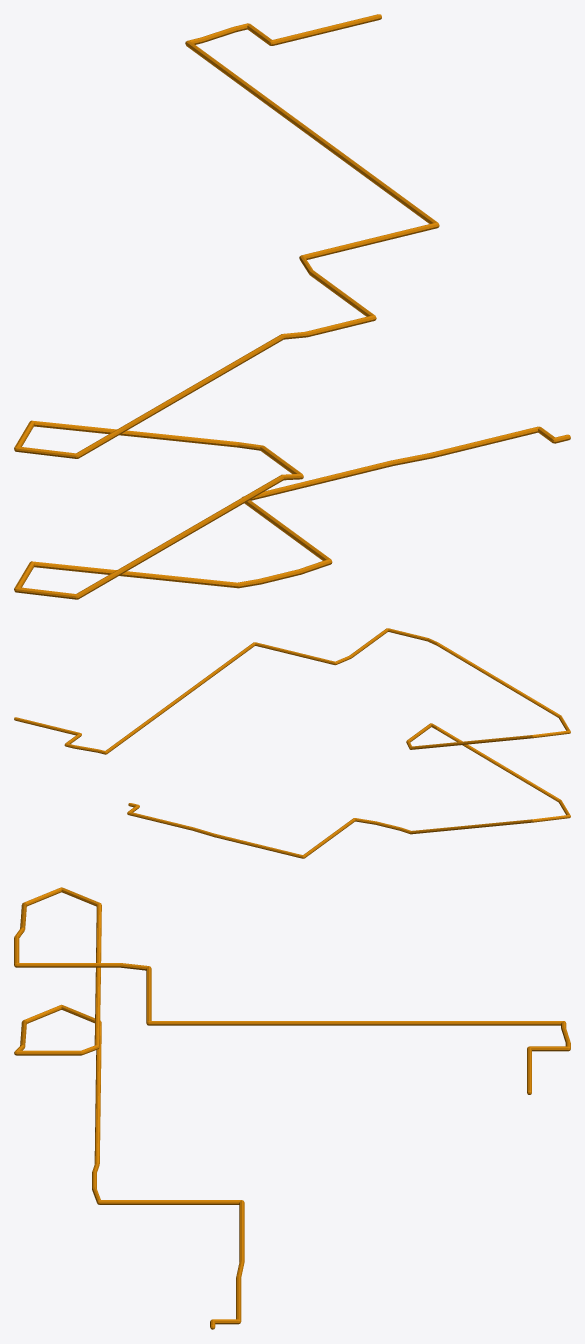
The picture shows the model from 3 angles, top to bottom: view 1: azimuth 30°, elevation 25°; view 2: azimuth 150°, elevation 25°; view 3: azimuth 270°, elevation 25°; orthographic projection. The views are drawn at different scales.
Bounding box in the file's own units: 2409 × 1020 × 2149.
